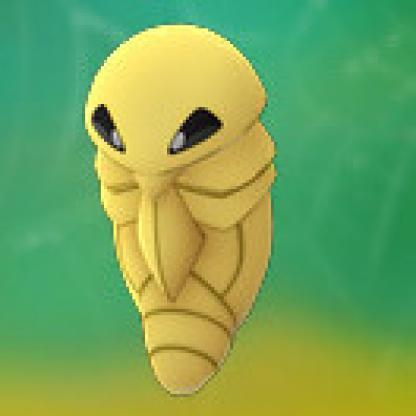Kakuna: (87, 19, 281, 406)
